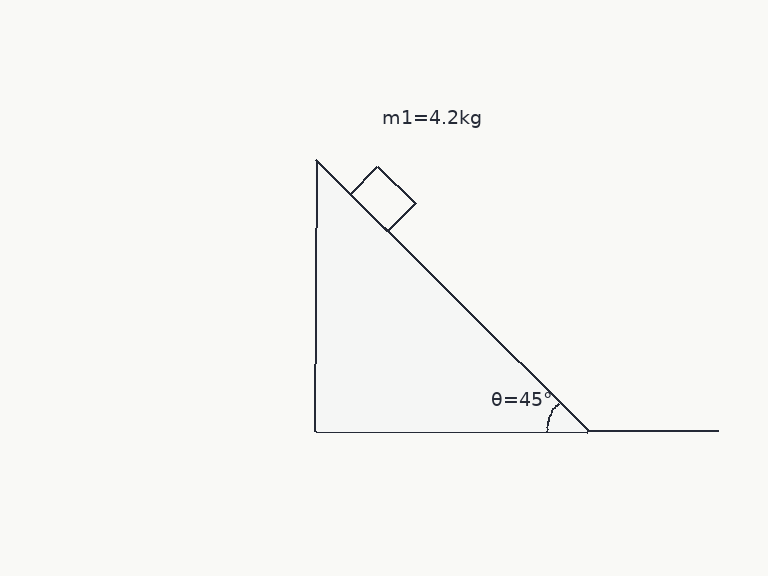block: (347, 164, 417, 233)
ramp: (313, 157, 589, 433)
